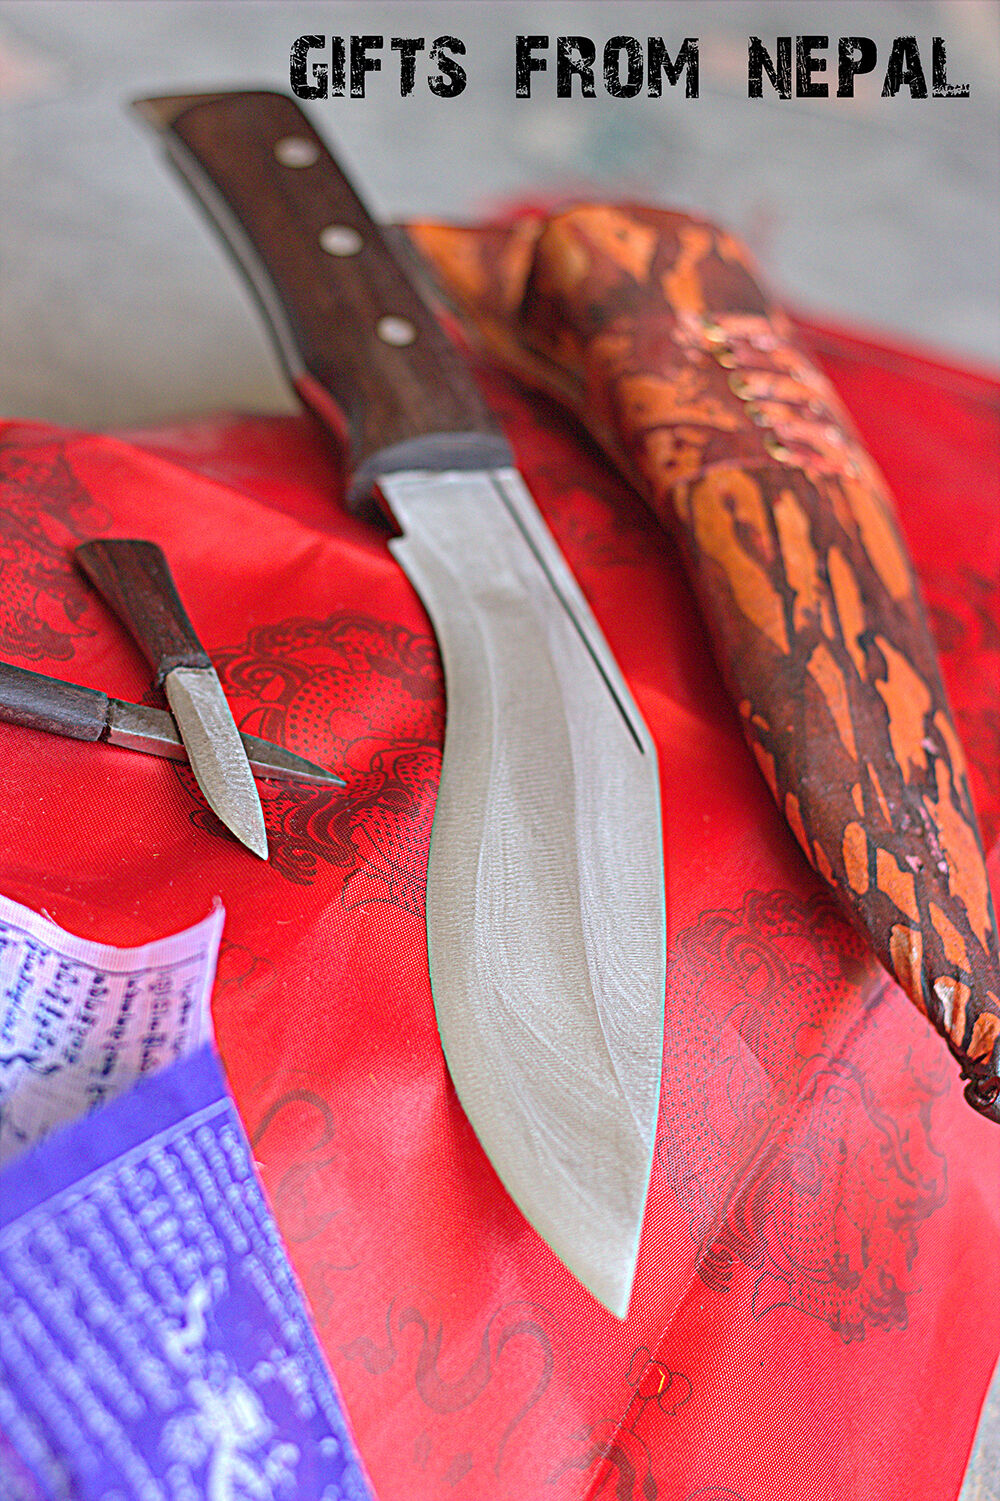knief: (143, 65, 705, 1298)
